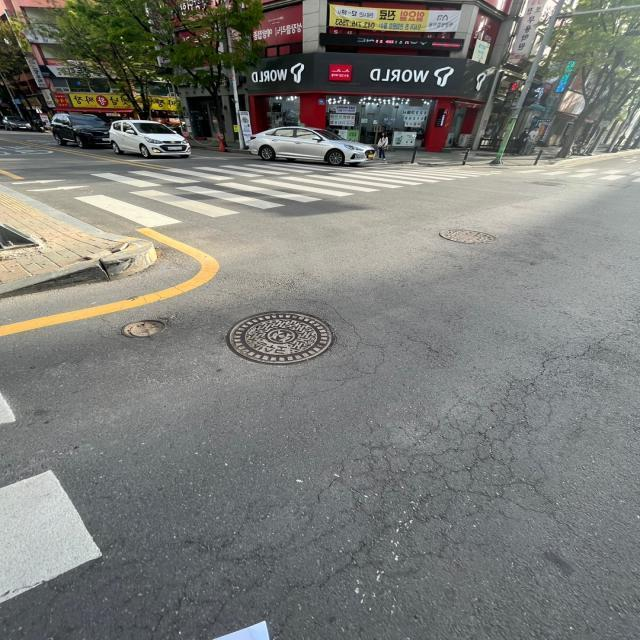Sewer Cover: (220, 294, 341, 388), (424, 220, 498, 256), (101, 313, 171, 351), (523, 175, 570, 199)
